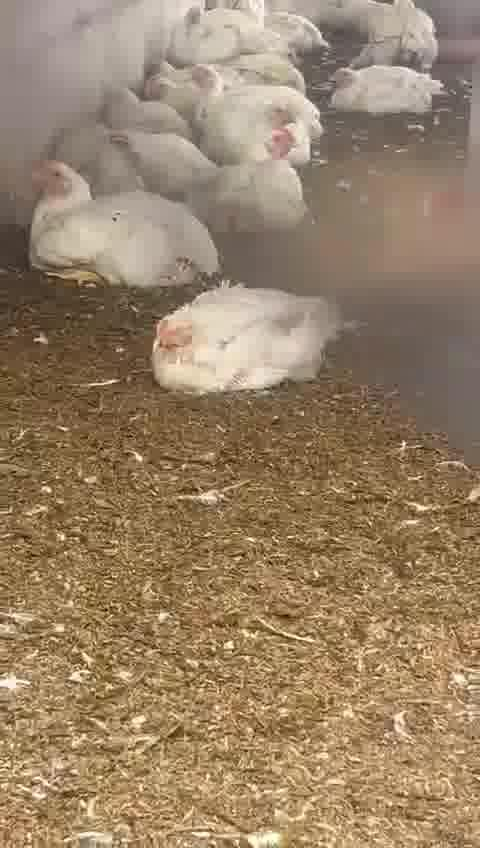AbNormal: (144, 278, 354, 399), (312, 48, 448, 120), (64, 116, 194, 186), (92, 79, 187, 151), (174, 3, 271, 57), (141, 49, 200, 105)
Normal: (27, 148, 219, 291), (207, 121, 315, 240), (192, 65, 322, 141)
